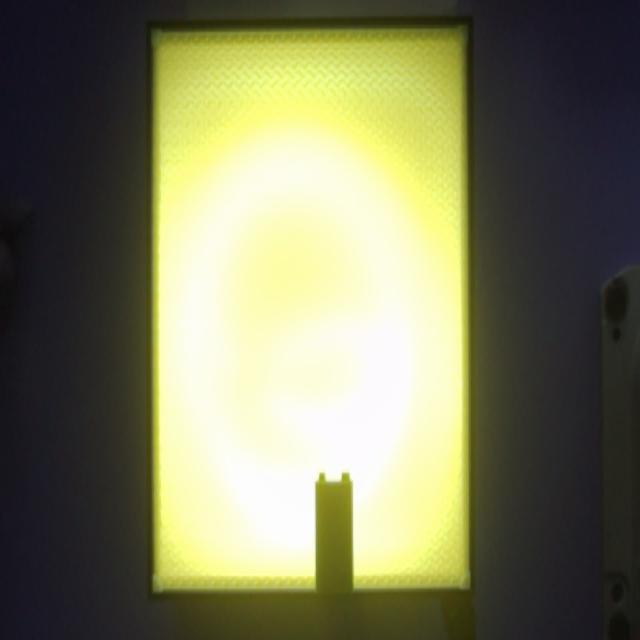bateria: (314, 472, 353, 593)
mesa: (146, 16, 476, 600)
